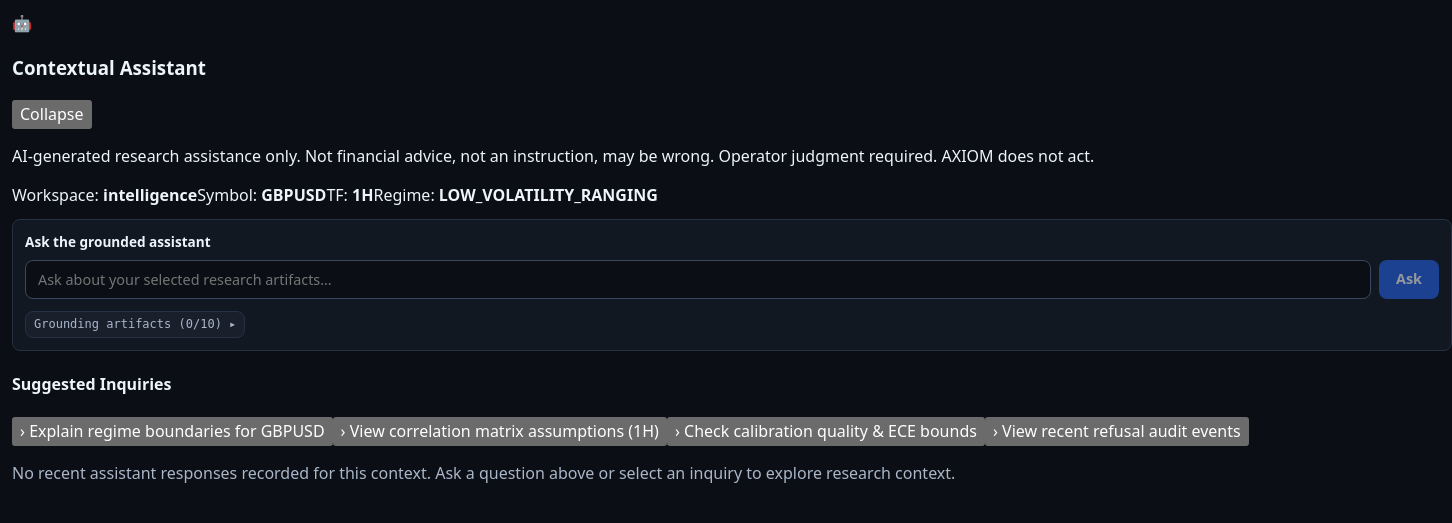
Test case: BO-F-01 — panel integration (chips pre-fill the ask input) › suggestion chips now pre-fill the composer input and keep the existing contract
The width and height of the screenshot is (1452, 523).
Click the button with test id "prompt-suggestion-chip" that starts with "Explain regime boundaries for GBPUSD": (172, 432) [12, 417, 333, 446]
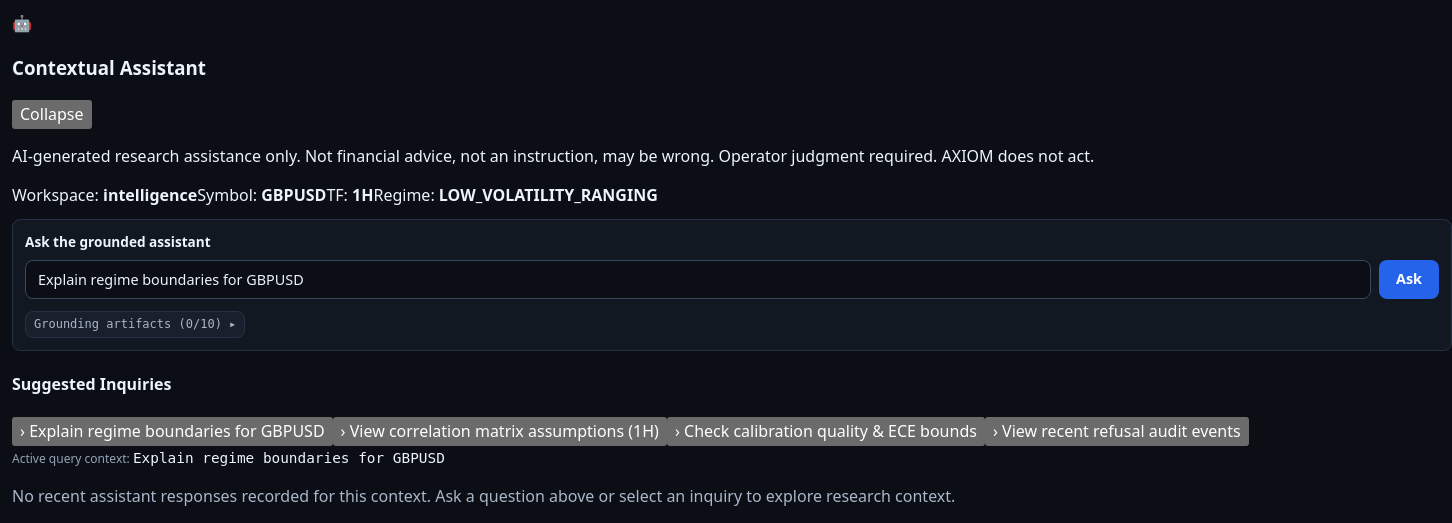
Check: the element with test id "selected-prompt-feedback" is shown, box [12, 450, 445, 467]
